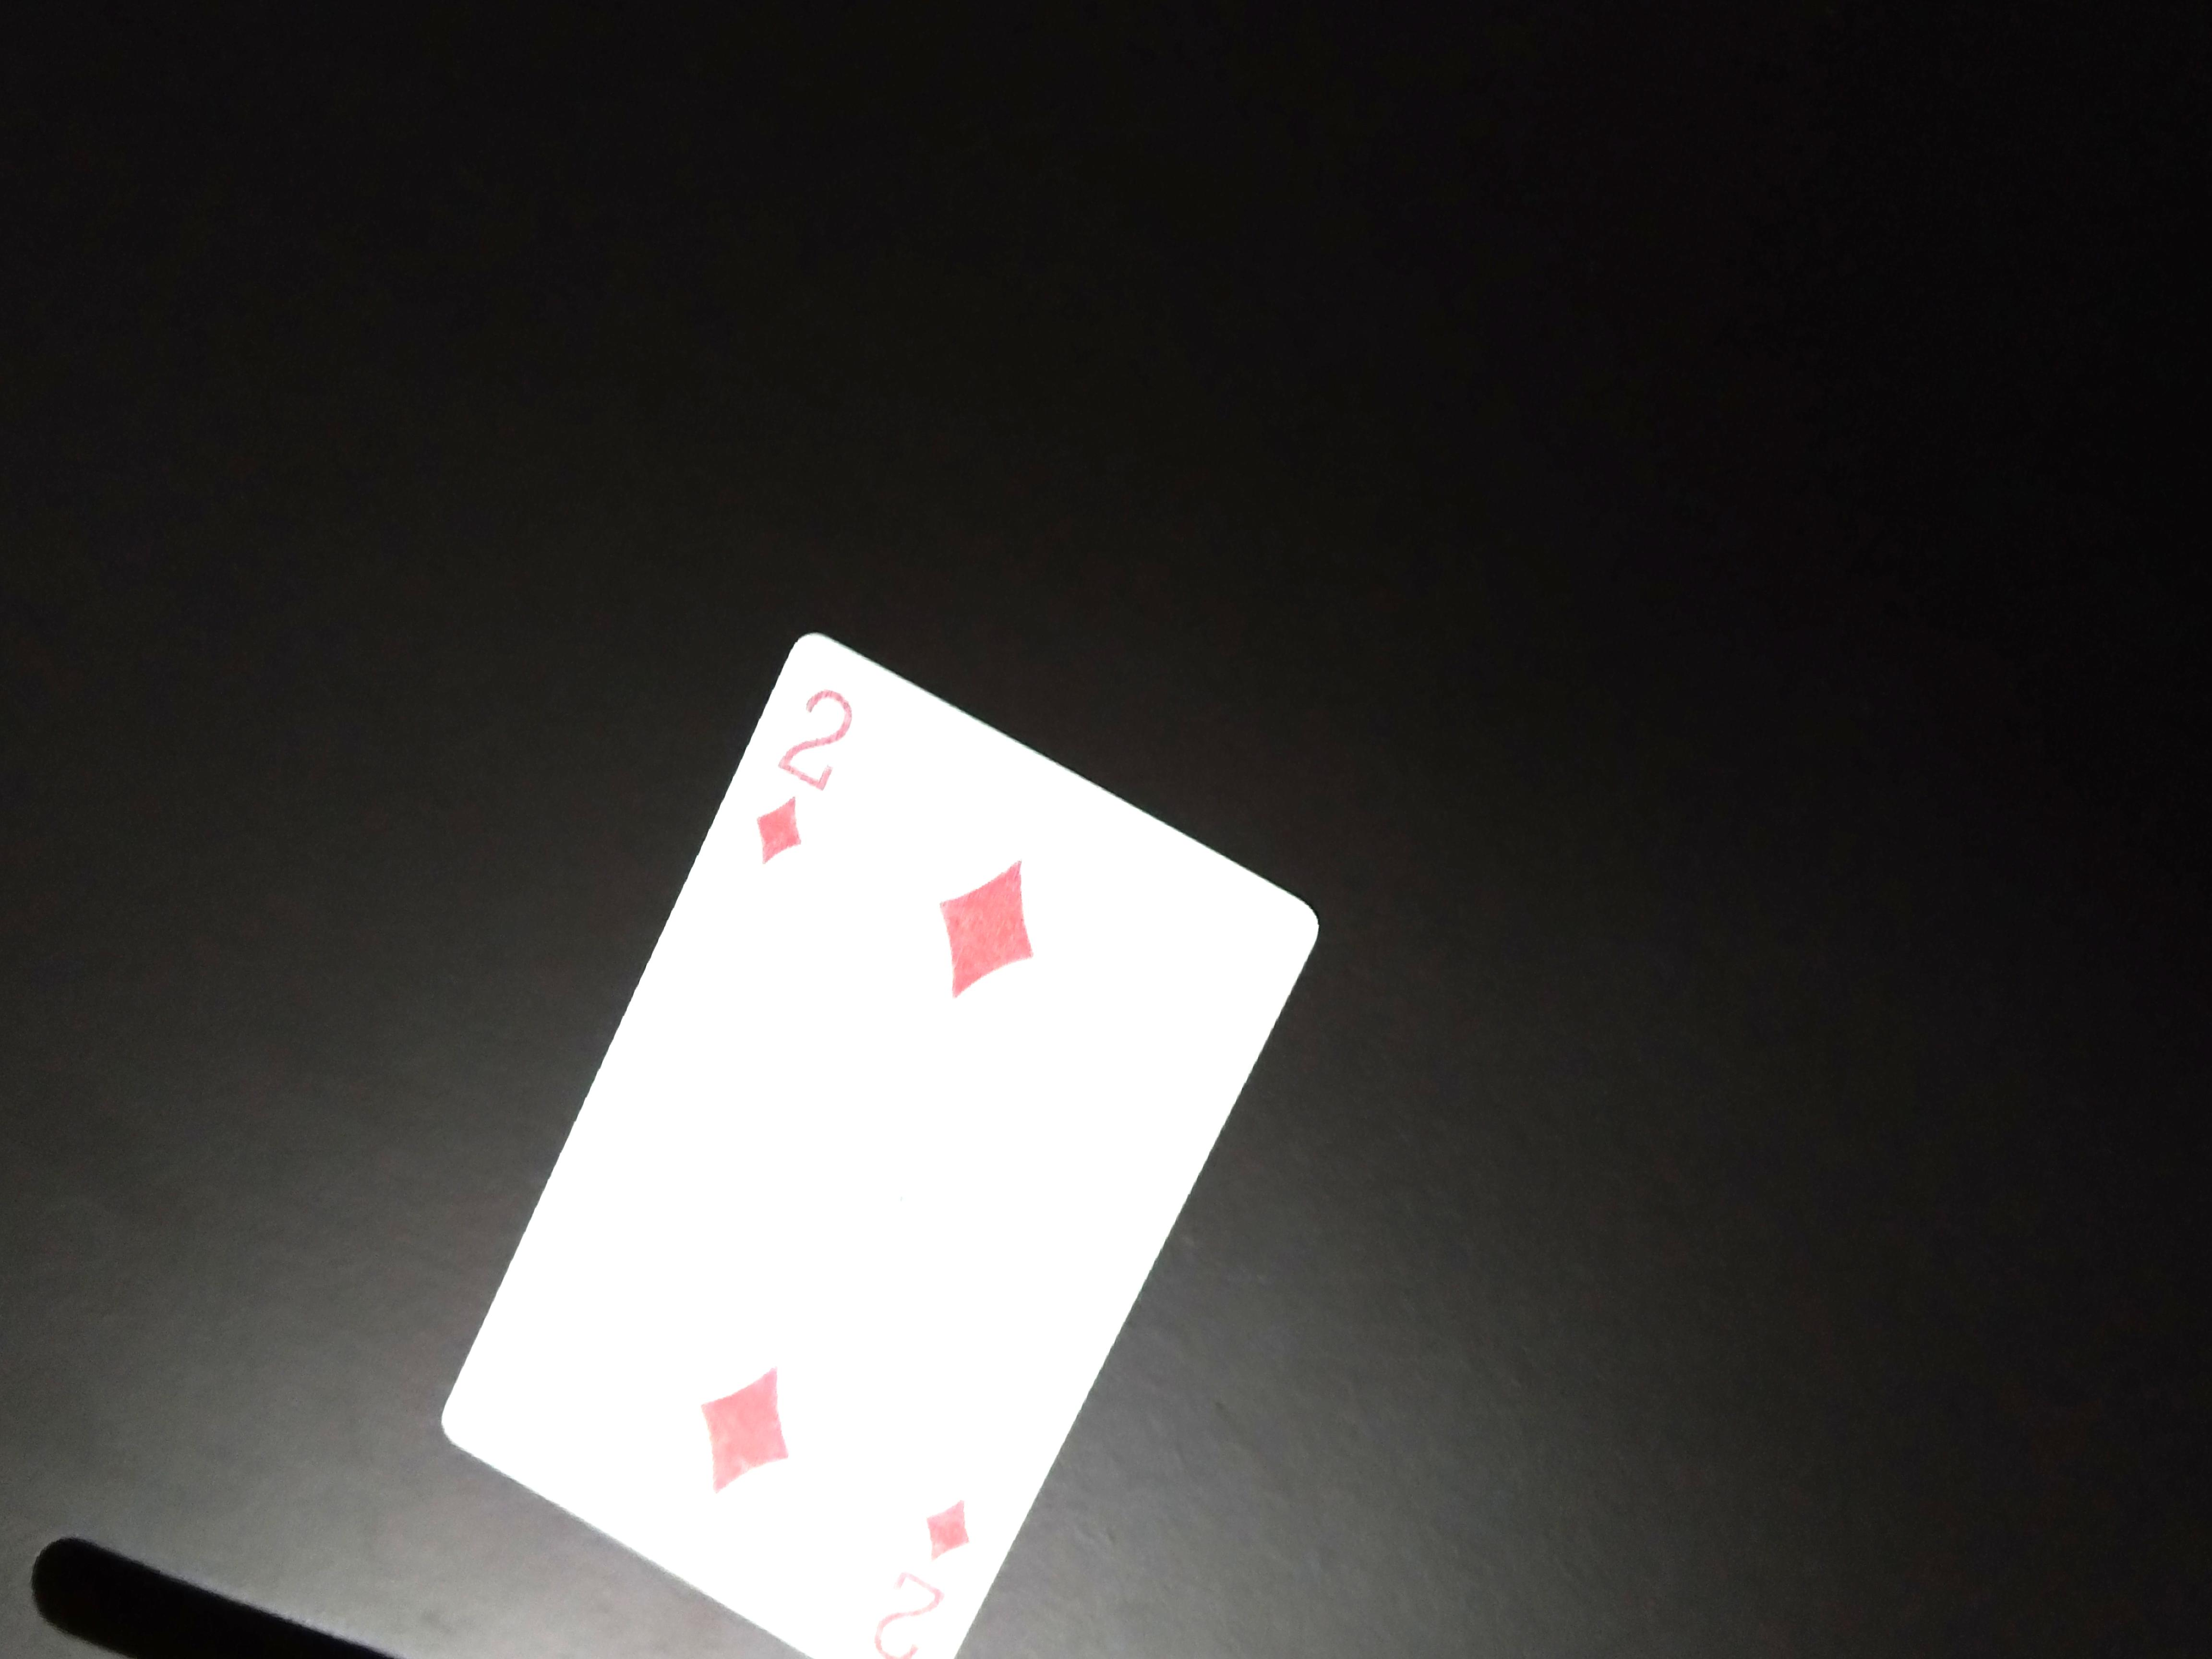2D: (735, 687, 860, 884)
